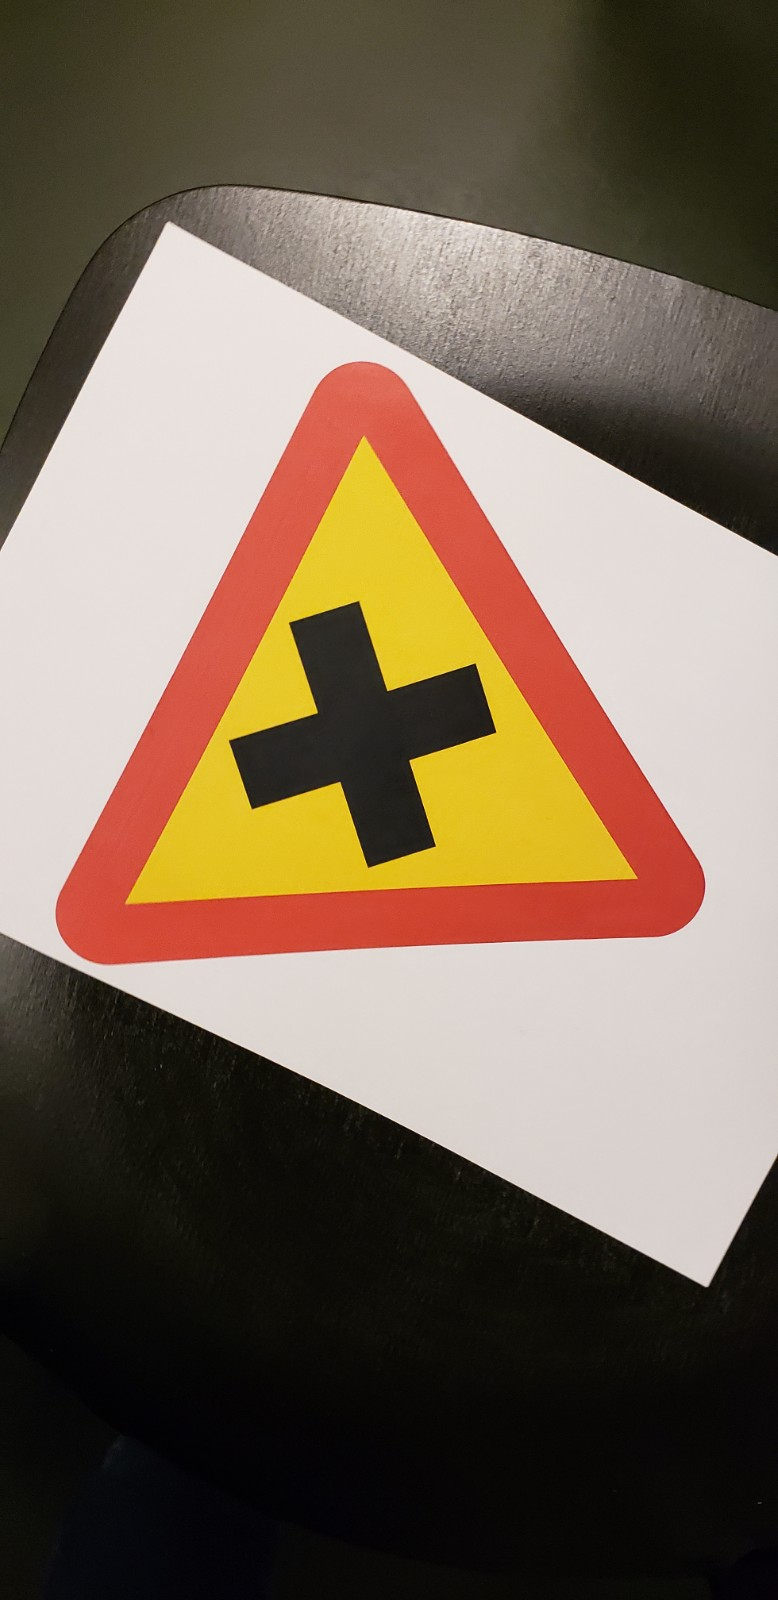junction: (47, 355, 725, 1019)
